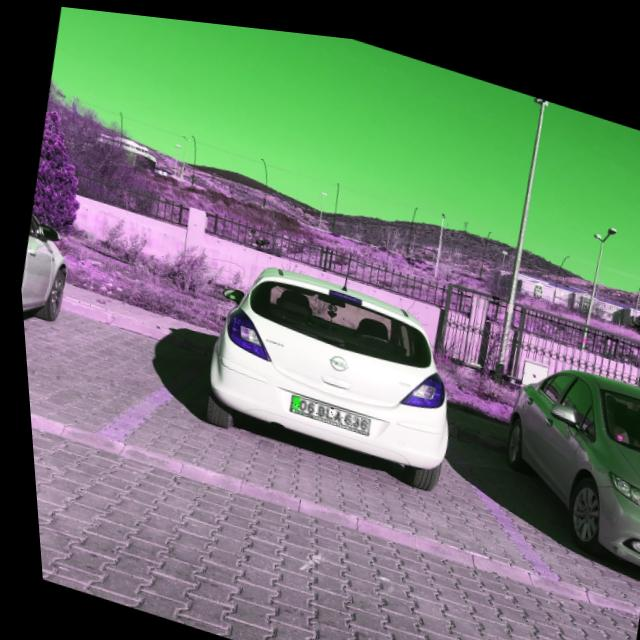license_plate: (284, 388, 364, 424)
